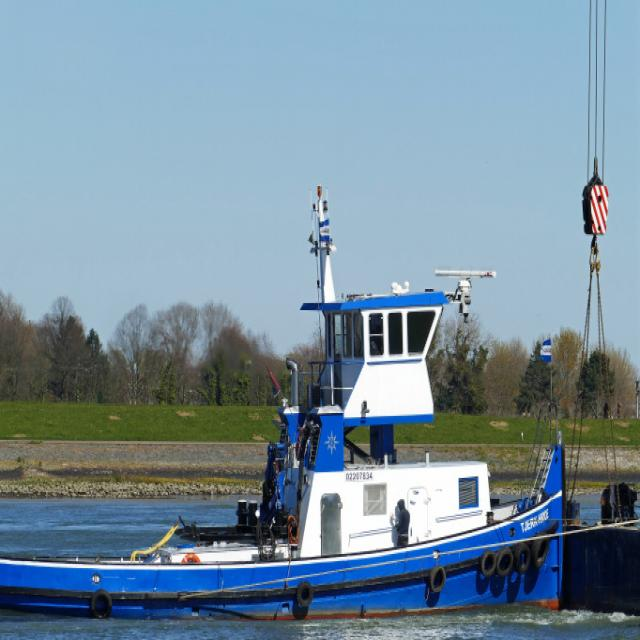tugboat: (1, 182, 569, 631)
